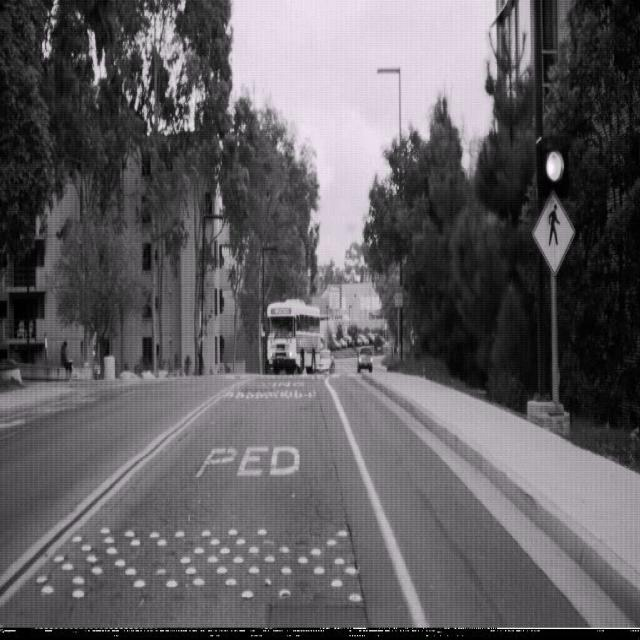pedestrianCrossing: (532, 188, 575, 274)
